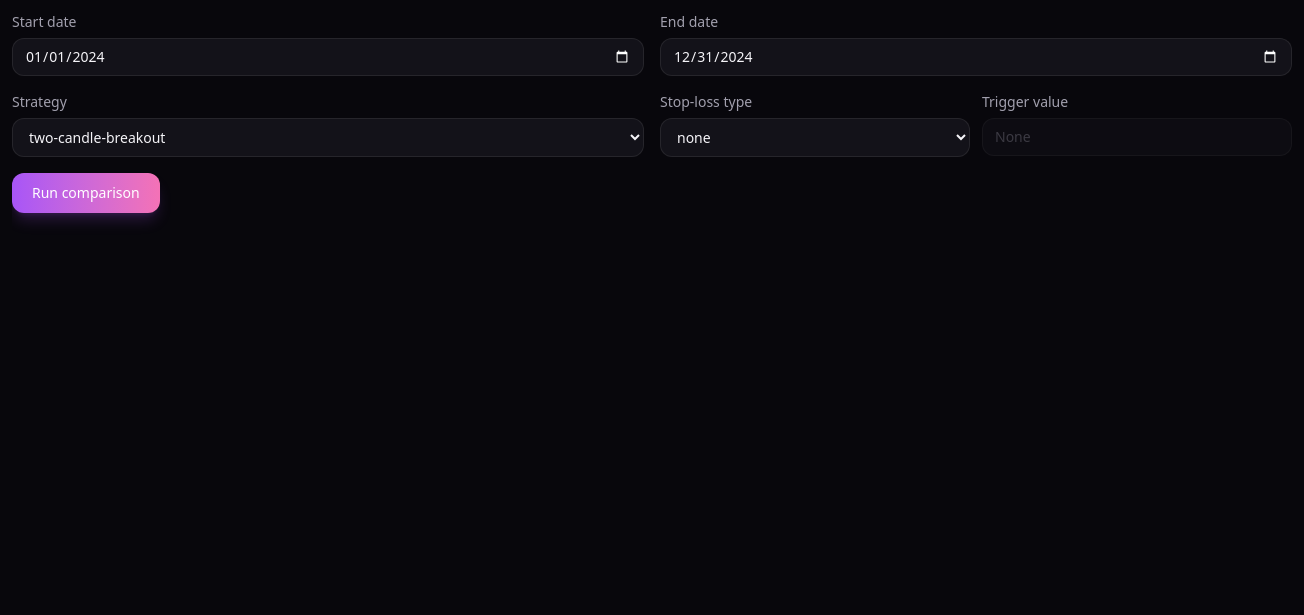
Scenario: StrategyComparison › runs the baseline and challenger concurrently, defaulting stopLossType to "none" (no stopLoss sent)
Check: the dropdown labelled "Strategy" is enabled, box [12,118,644,157]
Check: the dropdown labelled "Stop-loss type" is enabled, box [660,118,970,157]
Click the button "Run comparison" at (86, 193), box [12,173,160,213]
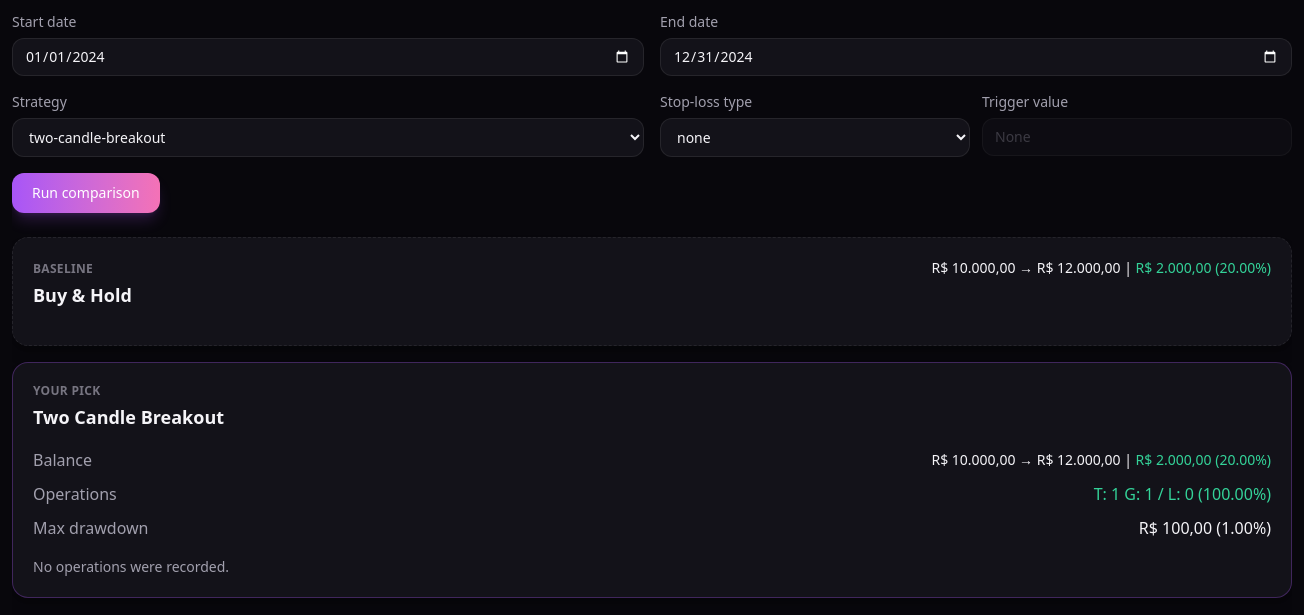
Check: the heading "Buy & Hold" is shown, box [33,281,132,309]
Check: the heading "Two Candle Breakout" is shown, box [33,405,224,429]
Check: the text "Your pick" is shown, box [33,382,100,399]
